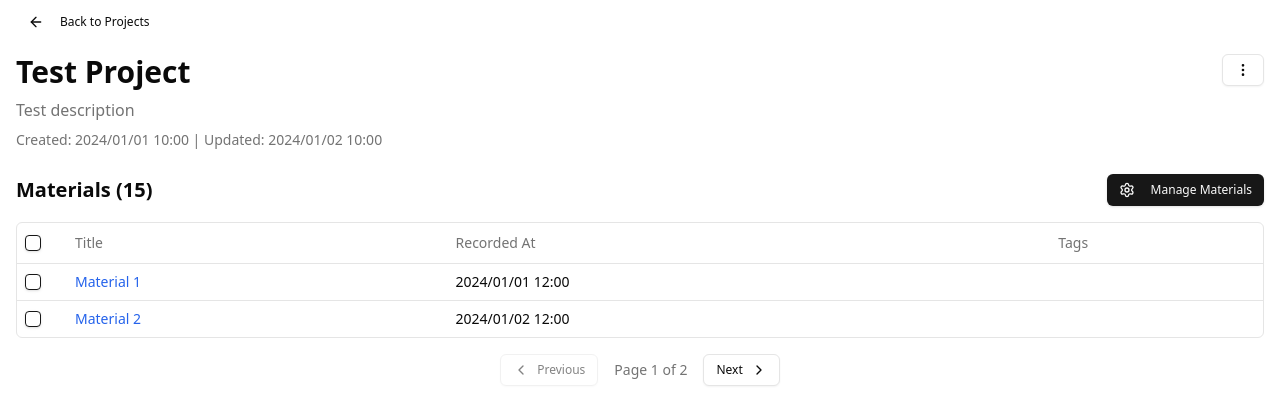
Test: ProjectDetailPage › Material operations › should handle individual material selection
Check: the heading "Test Project" is shown, box 16,51 -> 190,92
Click the checkbox next to "Material 1". click: (33, 282)
box: 25,274 -> 41,290
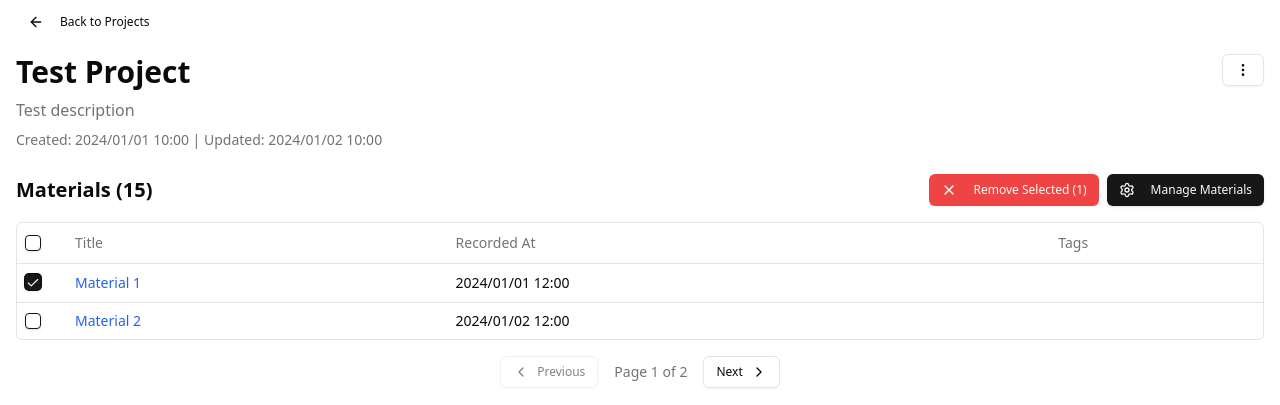
Check: the button "Remove Selected (1)" is shown, box 930,174 -> 1099,206
